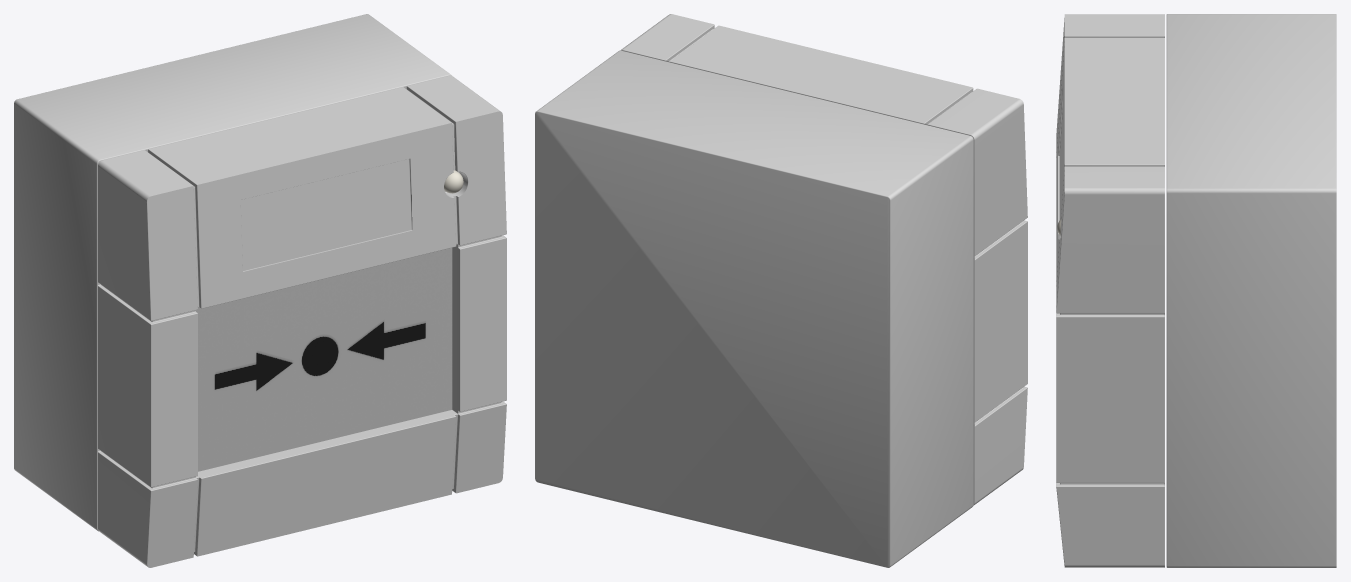
File: Alarme-Incendie.fbx
3 views of the same model, side by side, from view 1: azimuth 30°, elevation 25°; view 2: azimuth 150°, elevation 25°; view 3: azimuth 270°, elevation 25° (orthographic). The views are drawn at different scales.
Parts seen in each view (by area): view 1: Cube, Cube.004, Plane.001; view 2: Cube.004, Cube; view 3: Cube.004, Cube.
Part boxes in pixels (x1,y1,x2,y2): Cube: (98,75,506,567); Cube.004: (14,14,451,531); Plane.001: (196,247,452,471); Cube.004: (535,50,973,567); Cube: (620,14,1027,505); Cube.004: (1166,14,1336,567); Cube: (1056,14,1164,567).
Bounding box in the file's own units: 8.83 × 8.81 × 5.9.
Materials: 3 (1 with a texture image).
